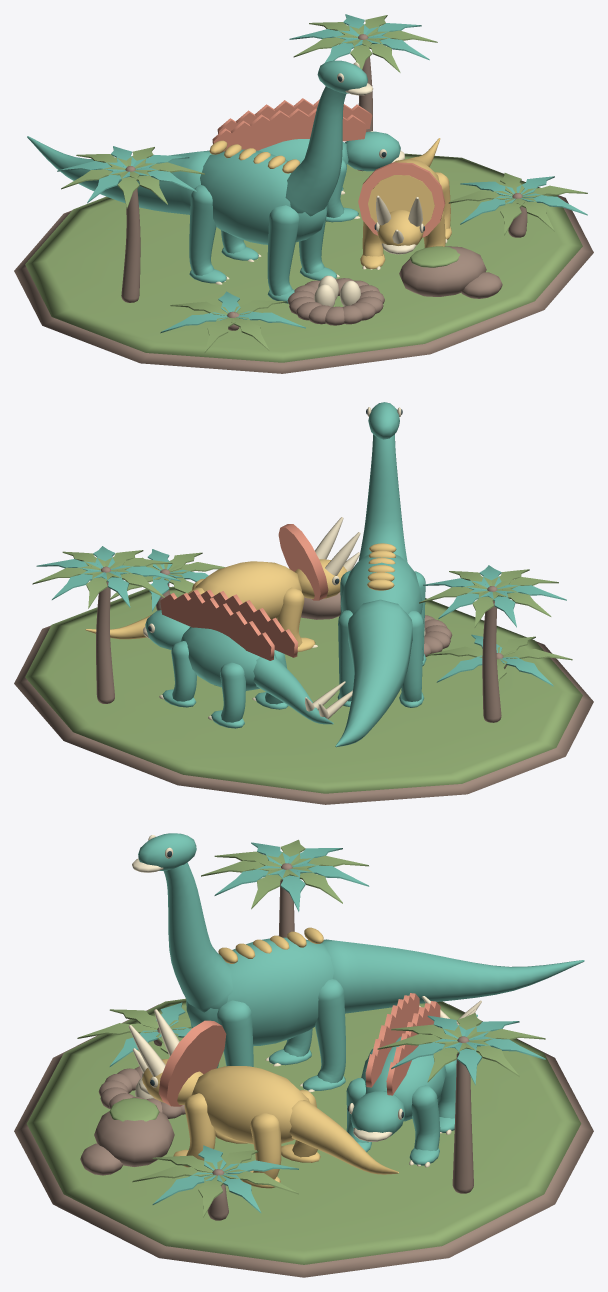
File: lost-valley-dinosaurs-herbivore-grove-dc1a03e3-starter-scene__1678.glb
3 renders of one model, top to bottom at view 1: azimuth 30°, elevation 25°; view 2: azimuth 150°, elevation 25°; view 3: azimuth 270°, elevation 25°, orthographic. The views are drawn at different scales.
Parts seen in each view (by area): view 1: 000-habitat-island/1, 001-brachiosaurus/0, 000-habitat-island/0, 002-triceratops/0, 003-stegosaurus/3, 009-mossy-boulders/0, 003-stegosaurus/0, 004-egg-nest/0, 005-tree-fern/1, 006-tree-fern/1, 002-triceratops/3, 007-cycad/1 (+11 smaller); view 2: 000-habitat-island/1, 001-brachiosaurus/0, 003-stegosaurus/0, 000-habitat-island/0, 002-triceratops/0, 003-stegosaurus/3, 005-tree-fern/1, 006-tree-fern/1, 005-tree-fern/2, 006-tree-fern/2, 002-triceratops/3, 005-tree-fern/0 (+10 smaller); view 3: 000-habitat-island/1, 001-brachiosaurus/0, 002-triceratops/0, 000-habitat-island/0, 003-stegosaurus/0, 009-mossy-boulders/0, 003-stegosaurus/3, 002-triceratops/3, 006-tree-fern/1, 005-tree-fern/1, 007-cycad/1, 006-tree-fern/2 (+11 smaller).
Part boxes in pixels (x1,y1,x2,y2): 000-habitat-island/1: (25, 153, 582, 362); 001-brachiosaurus/0: (27, 60, 367, 303); 000-habitat-island/0: (14, 195, 593, 373); 002-triceratops/0: (360, 138, 451, 268); 003-stegosaurus/3: (212, 98, 372, 151); 009-mossy-boulders/0: (399, 246, 502, 298); 003-stegosaurus/0: (257, 131, 400, 222); 004-egg-nest/0: (287, 278, 384, 325); 005-tree-fern/1: (61, 147, 204, 208); 006-tree-fern/1: (293, 15, 437, 72); 002-triceratops/3: (358, 162, 445, 237); 007-cycad/1: (448, 173, 587, 235); 000-habitat-island/1: (25, 586, 582, 793); 001-brachiosaurus/0: (335, 402, 426, 747); 003-stegosaurus/0: (145, 610, 333, 728); 000-habitat-island/0: (14, 625, 593, 804); 002-triceratops/0: (85, 559, 346, 651); 003-stegosaurus/3: (160, 589, 298, 660); 005-tree-fern/1: (419, 569, 558, 627); 006-tree-fern/1: (32, 550, 172, 608); 005-tree-fern/2: (423, 565, 566, 627); 006-tree-fern/2: (36, 546, 180, 607); 002-triceratops/3: (278, 524, 328, 600); 005-tree-fern/0: (482, 586, 501, 722); 000-habitat-island/1: (26, 998, 581, 1264); 001-brachiosaurus/0: (138, 833, 584, 1090); 002-triceratops/0: (142, 1059, 398, 1188); 000-habitat-island/0: (14, 1004, 593, 1277); 003-stegosaurus/0: (346, 1014, 477, 1165); 009-mossy-boulders/0: (80, 1111, 174, 1175); 003-stegosaurus/3: (365, 993, 440, 1095); 002-triceratops/3: (158, 1020, 226, 1106); 006-tree-fern/1: (377, 1012, 545, 1082); 005-tree-fern/1: (201, 839, 368, 909); 007-cycad/1: (132, 1150, 298, 1217); 006-tree-fern/2: (391, 1015, 545, 1085).
Bounding box in the file's own units: 11 × 5.22 × 9.2.
